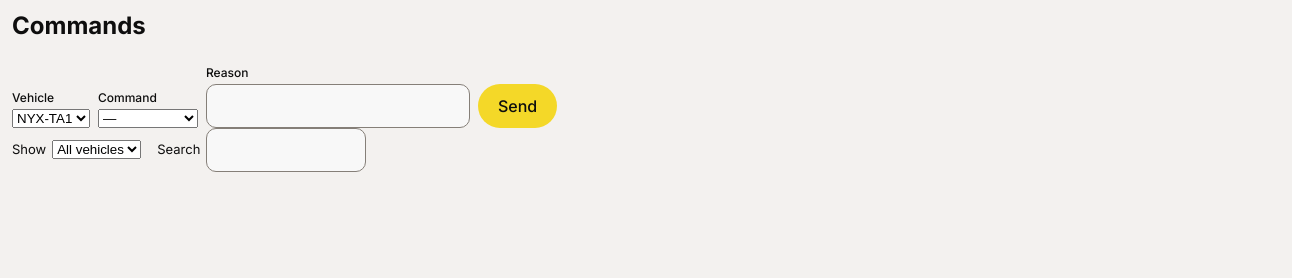
Test case: INVALID_ARGS and DUPLICATE_COMMAND show inline
Select "NYX-TA1" in the dropdown labelled "Vehicle" at (51, 118), box [12,109,90,128]
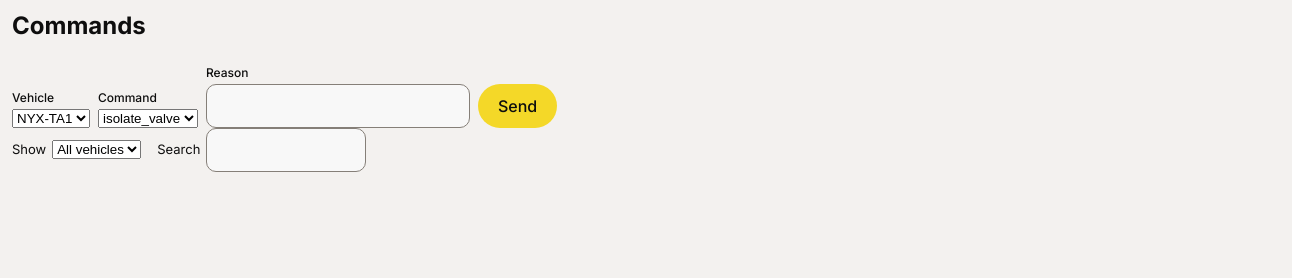
Select "isolate_valve" in the dropdown labelled "Command" at (148, 118), box [98,109,198,128]
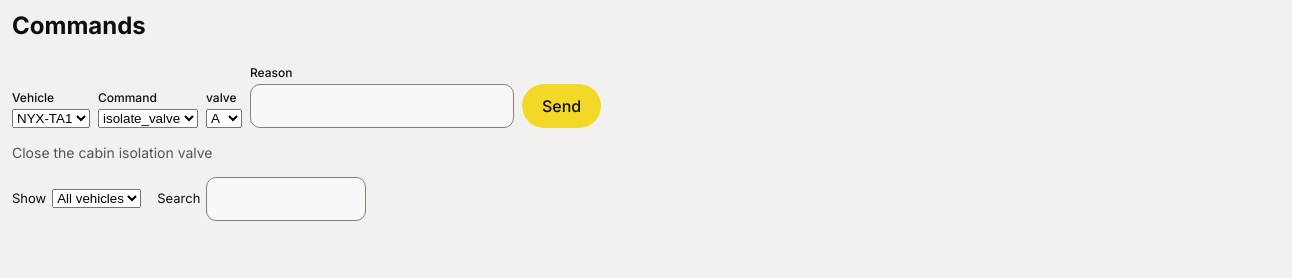
Select "A" in the dropdown labelled "valve" at (224, 118), box [206,109,242,128]
Click the button "Send" at (562, 106), box [522,84,601,128]
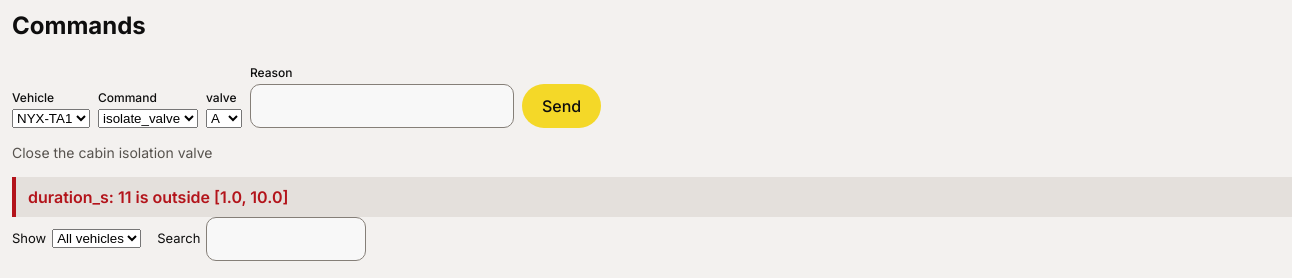
Check: the message "duration_s: 11 is outside [1.0, 10.0]" is shown, box [12,177,1291,217]
Click the button "Send" at (562, 106), box [522,84,601,128]
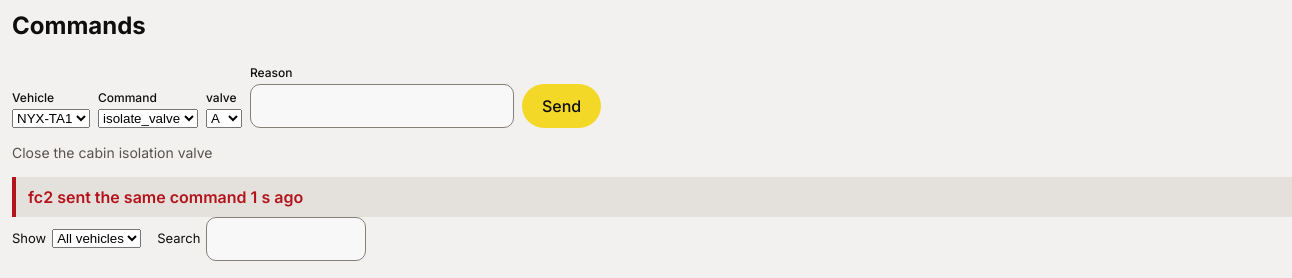
Check: the message "fc2 sent the same command 1 s ago" is shown, box [12,177,1291,217]
